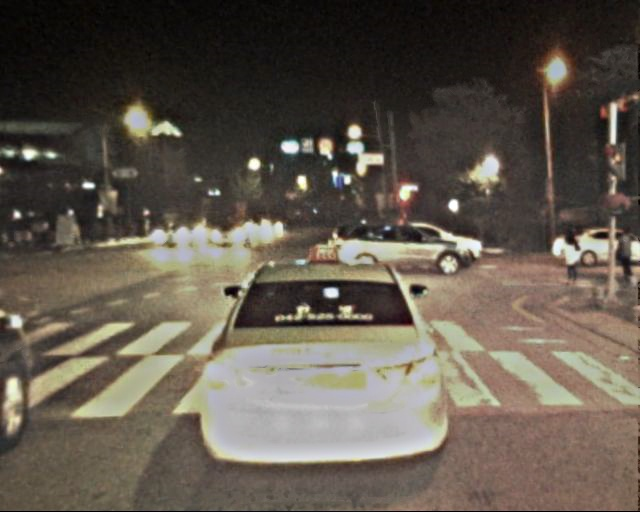person: (561, 228, 587, 287), (617, 228, 639, 286)
